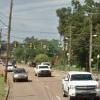Tree: (51, 7, 100, 59)
